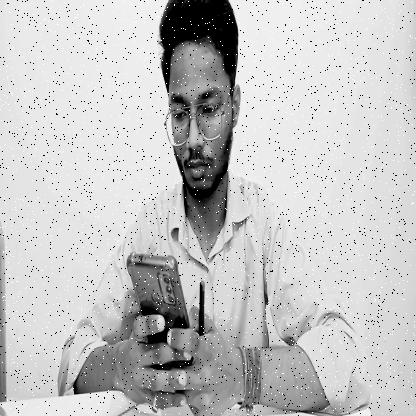Distracted: (160, 3, 242, 204)
